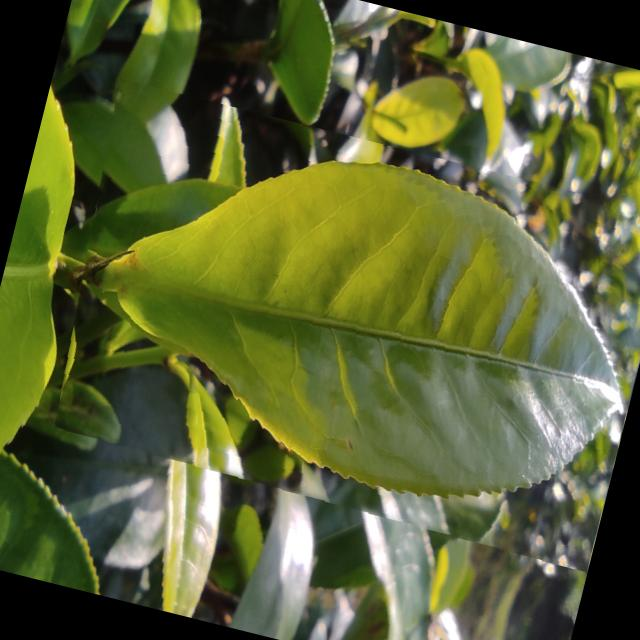Category B(2-4 days): (28, 77, 640, 572)
